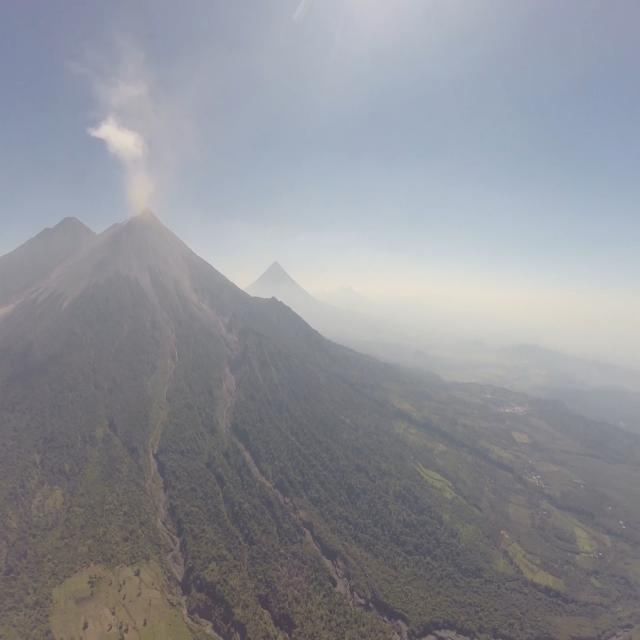Plume: (90, 110, 166, 220)
Summit: (112, 200, 172, 238)
